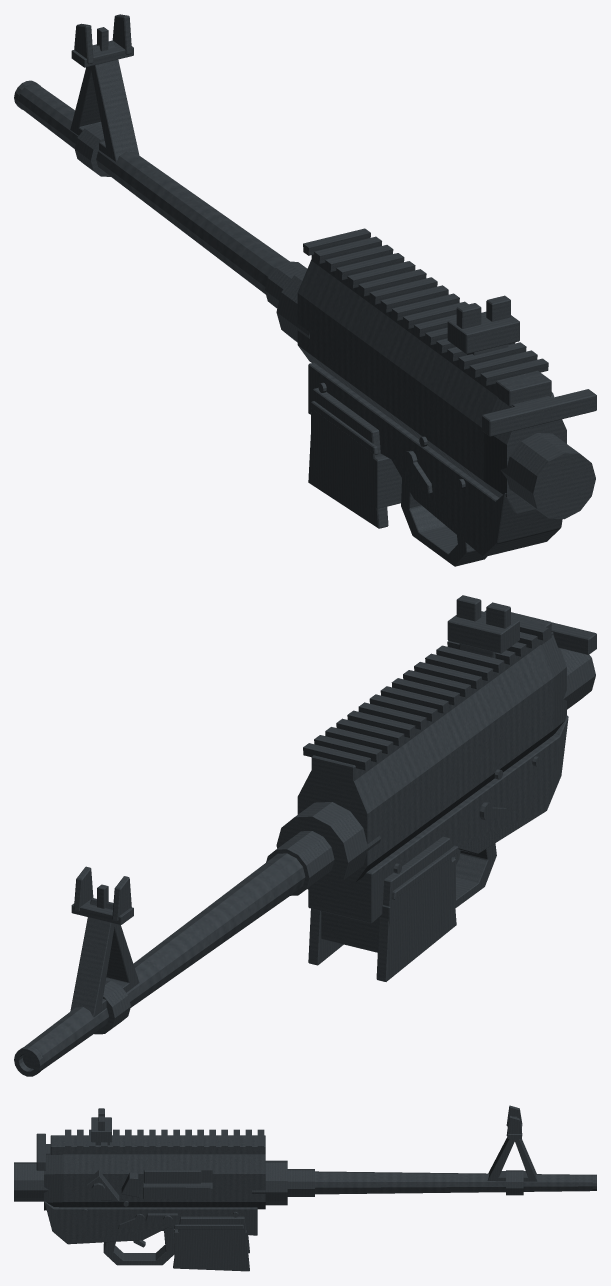
Rendered from weapon_m4a1.glb.
3 views of the same model, one above another, from view 1: azimuth 30°, elevation 25°; view 2: azimuth 150°, elevation 25°; view 3: azimuth 270°, elevation 25° (orthographic). The views are drawn at different scales.
Parts seen in each view (by area): view 1: body_LOD0, action_LOD0; view 2: body_LOD0, action_LOD0; view 3: body_LOD0, action_LOD0.
Boxes of the visible parts, bbox=[...] form: body_LOD0: bbox=[14, 14, 595, 566]; action_LOD0: bbox=[482, 389, 596, 436]; body_LOD0: bbox=[14, 595, 595, 1076]; action_LOD0: bbox=[484, 610, 596, 654]; body_LOD0: bbox=[14, 1105, 596, 1271]; action_LOD0: bbox=[36, 1133, 201, 1183].
Size of what is drawn, in the model's own units: 0.133 by 0.3027 by 1.06.
Materials: 1 (1 with a texture image).
